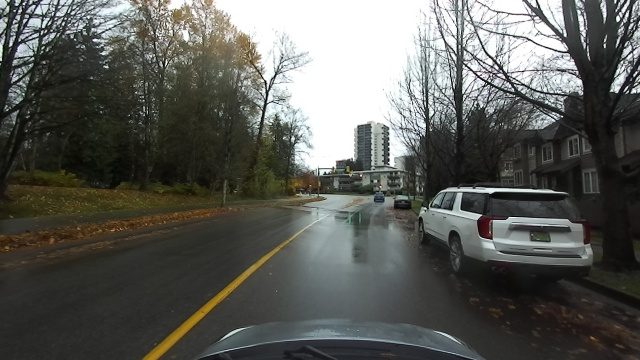car: (416, 179, 597, 280), (391, 194, 412, 212), (371, 191, 387, 202)
